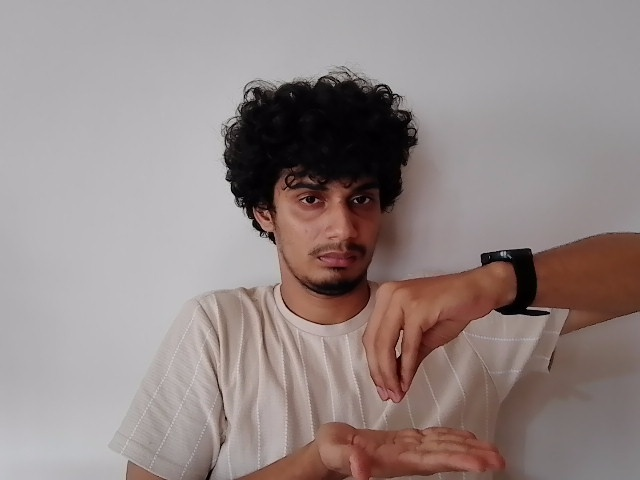learn: (321, 268, 510, 480)
